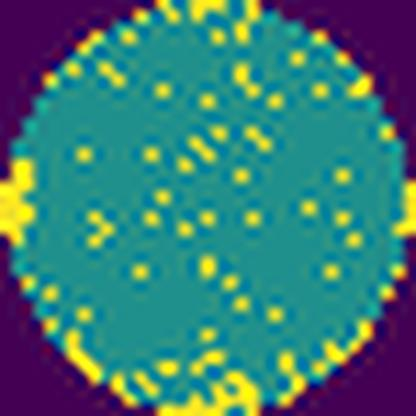Edge-Loc: (159, 365, 265, 416), (0, 154, 37, 250), (389, 176, 416, 239)
